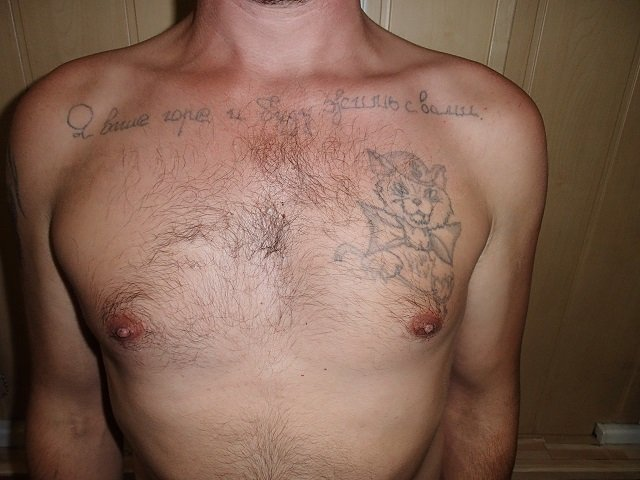tatu3_bukva: (69, 86, 489, 140)
tatu8_kot: (336, 138, 468, 316)
